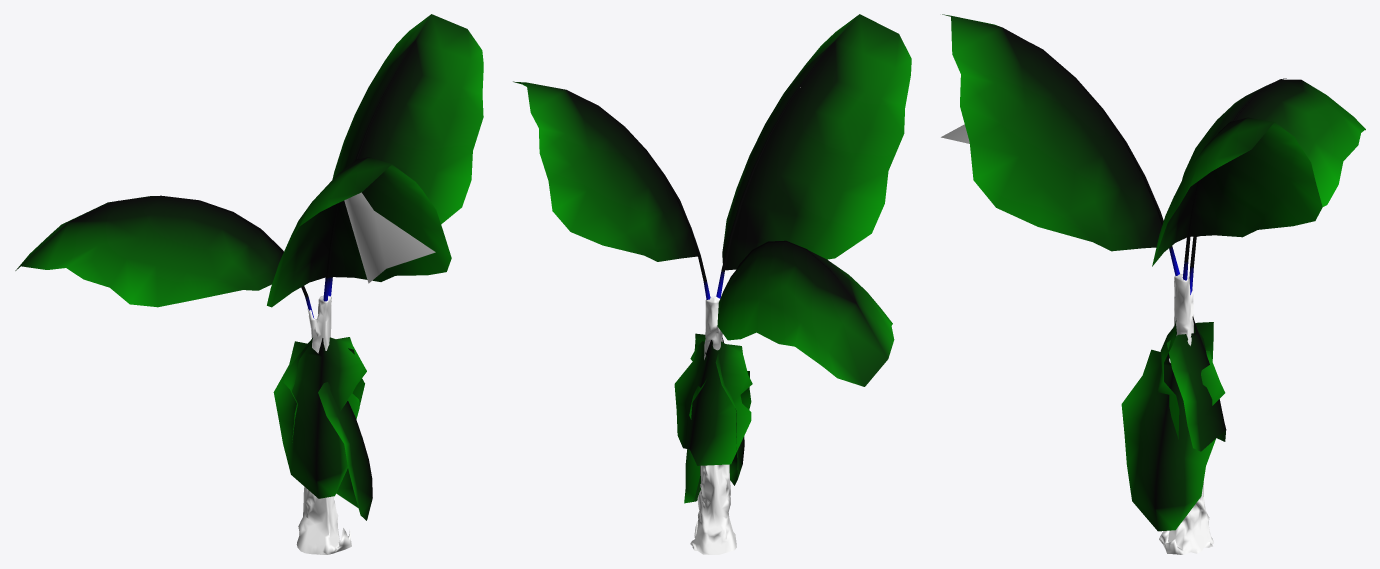
File: CoconutPalmTree04_afsTREE_xlprl05_xmvcb_xlod00.fbx
3 renders of one model, left to right at view 1: azimuth 30°, elevation 25°; view 2: azimuth 150°, elevation 25°; view 3: azimuth 270°, elevation 25°, orthographic. The views are drawn at different scales.
Visible parts, largest first — view 1: PalmBranch01_xw07_xt08_xlp00.004, PalmBranch01_xw10_xt08_xlp00.003, PalmBranch01_xw10_xt09_xlp00.004, DeadPalmBranch_xw01_xt02_xlp01_xp01, PalmBlade02_bent_right_xw03_xt05_xlp05.005, trunk_CoconutPalmTree04_xw03_xt03_xlp03, DeadPalmBranch_xw02_xt03_xlp02_xp03.006, DeadPalmBranch_xw01_xt02_xlp01; view 2: PalmBranch01_xw10_xt09_xlp00.004, PalmBranch01_xw10_xt08_xlp00.003, PalmBranch01_xw07_xt08_xlp00.004, DeadPalmBranch_xw01_xt02_xlp01, trunk_CoconutPalmTree04_xw03_xt03_xlp03, DeadPalmBranch_xw02_xt03_xlp02_xp03.006, DeadPalmBranch_xw01_xt02_xlp01_xp01, PalmBranch01_xw10_xt09_xlp08_xp08, PalmBranch01_xw10_xt08_xlp06_xp03; view 3: PalmBranch01_xw10_xt09_xlp00.004, PalmBranch01_xw10_xt08_xlp00.003, DeadPalmBranch_xw02_xt03_xlp02_xp03.006, PalmBranch01_xw07_xt08_xlp00.004, DeadPalmBranch_xw01_xt02_xlp01, trunk_CoconutPalmTree04_xw03_xt03_xlp03, DeadPalmBranch_xw01_xt02_xlp01_xp01, PalmBranch01_xw10_xt09_xlp08_xp08.
Boxes of the visible parts, x1,y1,x2,y2 form: PalmBranch01_xw07_xt08_xlp00.004: (15,196,282,307); PalmBranch01_xw10_xt08_xlp00.003: (332,14,483,224); PalmBranch01_xw10_xt09_xlp00.004: (267,157,451,307); DeadPalmBranch_xw01_xt02_xlp01_xp01: (273,337,366,498); PalmBlade02_bent_right_xw03_xt05_xlp05.005: (344,192,435,283); trunk_CoconutPalmTree04_xw03_xt03_xlp03: (296,295,351,554); DeadPalmBranch_xw02_xt03_xlp02_xp03.006: (318,382,372,520); DeadPalmBranch_xw01_xt02_xlp01: (283,338,364,442); PalmBranch01_xw10_xt09_xlp00.004: (722,14,911,270); PalmBranch01_xw10_xt08_xlp00.003: (513,81,697,261); PalmBranch01_xw07_xt08_xlp00.004: (717,241,894,386); DeadPalmBranch_xw01_xt02_xlp01: (674,340,752,465); trunk_CoconutPalmTree04_xw03_xt03_xlp03: (690,296,736,554); DeadPalmBranch_xw02_xt03_xlp02_xp03.006: (684,371,751,503); DeadPalmBranch_xw01_xt02_xlp01_xp01: (690,333,744,485); PalmBranch01_xw10_xt09_xlp08_xp08: (716,61,818,298); PalmBranch01_xw10_xt08_xlp06_xp03: (588,100,710,299); PalmBranch01_xw10_xt09_xlp00.004: (942,14,1161,251); PalmBranch01_xw10_xt08_xlp00.003: (1152,117,1322,266); DeadPalmBranch_xw02_xt03_xlp02_xp03.006: (1121,349,1225,531); PalmBranch01_xw07_xt08_xlp00.004: (1182,79,1365,236); DeadPalmBranch_xw01_xt02_xlp01: (1166,316,1226,451); trunk_CoconutPalmTree04_xw03_xt03_xlp03: (1159,273,1213,554); DeadPalmBranch_xw01_xt02_xlp01_xp01: (1157,320,1213,439); PalmBranch01_xw10_xt09_xlp08_xp08: (1030,42,1179,275).
Size of what is drawn, in the model's own units: 7.18 by 5.89 by 7.76.
